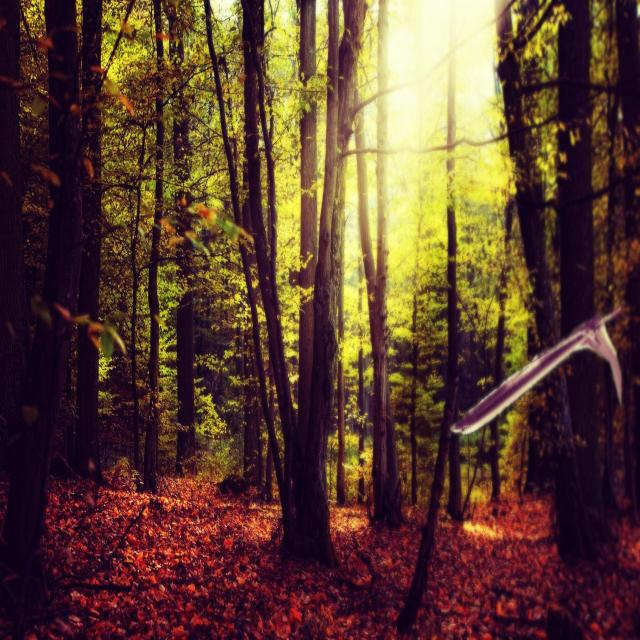airplane: (449, 305, 623, 437)
